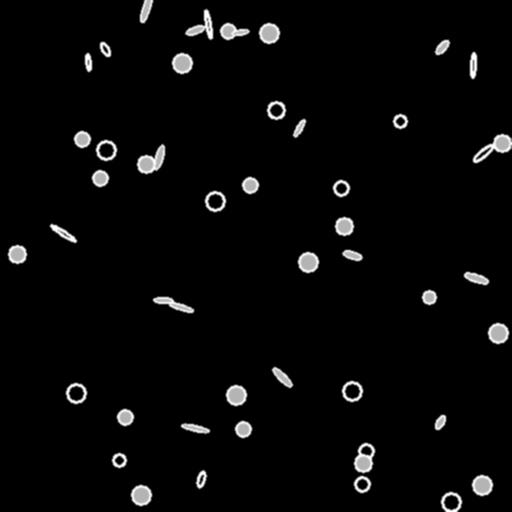pseudomonas: (50, 223, 76, 243), (271, 366, 293, 388), (472, 143, 494, 163), (138, 0, 154, 22), (464, 271, 488, 285), (168, 301, 194, 313), (203, 9, 213, 39), (153, 145, 165, 169), (181, 423, 209, 433), (434, 39, 450, 55), (292, 119, 306, 137), (342, 249, 362, 261), (185, 24, 205, 36), (433, 414, 447, 430), (98, 41, 112, 57), (195, 470, 207, 488), (470, 53, 476, 77), (84, 53, 92, 71), (232, 28, 248, 36), (153, 297, 173, 303)
synechocystis: (489, 324, 507, 342), (473, 476, 491, 494), (442, 493, 460, 511), (343, 382, 361, 400), (260, 24, 278, 42), (132, 486, 150, 504), (173, 54, 191, 72), (227, 386, 245, 404), (299, 253, 317, 271), (67, 384, 85, 402), (206, 192, 224, 210), (97, 141, 115, 159), (336, 218, 352, 234), (268, 102, 284, 118), (138, 156, 154, 172), (355, 455, 371, 471), (494, 135, 510, 151), (9, 246, 25, 262), (93, 171, 107, 185), (243, 178, 257, 192), (355, 477, 369, 491), (236, 422, 250, 436), (221, 24, 235, 38), (334, 181, 348, 195), (359, 444, 373, 458), (75, 132, 89, 146), (118, 410, 132, 424), (423, 291, 435, 303), (113, 454, 125, 466), (394, 115, 406, 127)
